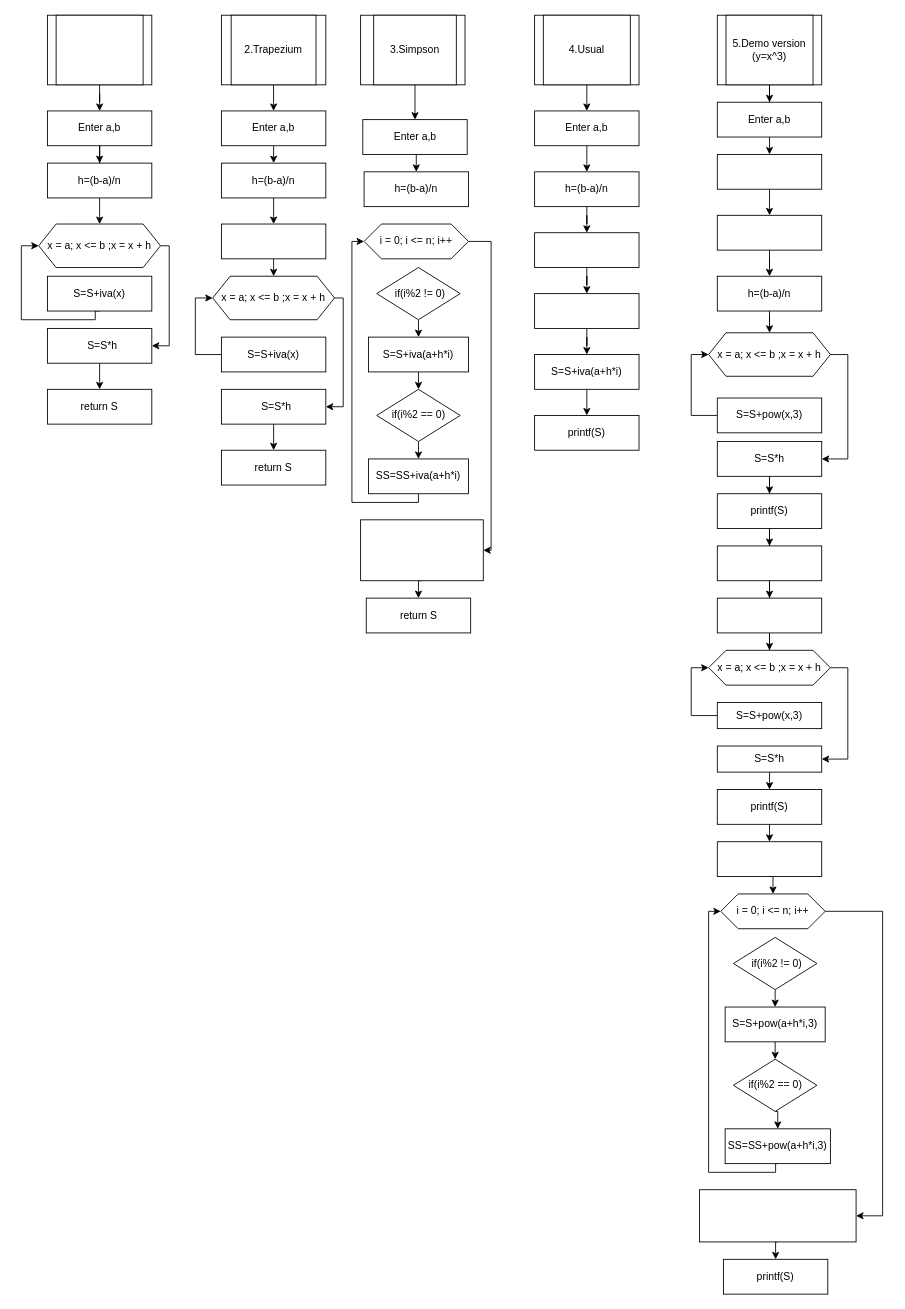
Some shapes in this 905 by 1309 pixel diagram are drawn without their labels. The shapes that lost their labels are listed below. From the top down, each one's centre as x and y in pixels, then its label:
(x=99, y=49): 1.Rectangies
(x=769, y=171): Enter n
(x=273, y=241): S=iva(a)+iva(b)
(x=586, y=250): S=(pow(a,3)/3)*((pow(e,2)-1)/2)
(x=769, y=232): h = ((b-a)/n)
(x=586, y=310): SS=(pow(b,3)/3)*((pow(e,2)-1)/2
(x=421, y=550): S=((b-a)/(3*n))*(iva(a)+4*S+2*SS+iva(b))
(x=769, y=563): h = (b-a)/n
(x=769, y=615): S=pow(a,3)+pow(b,3)
(x=769, y=859): h=((b-a)/n)
(x=777, y=1215): S=((b-a)/(3*n))*(pow(a,3)+4*S+2*SS+pow(b,3))
